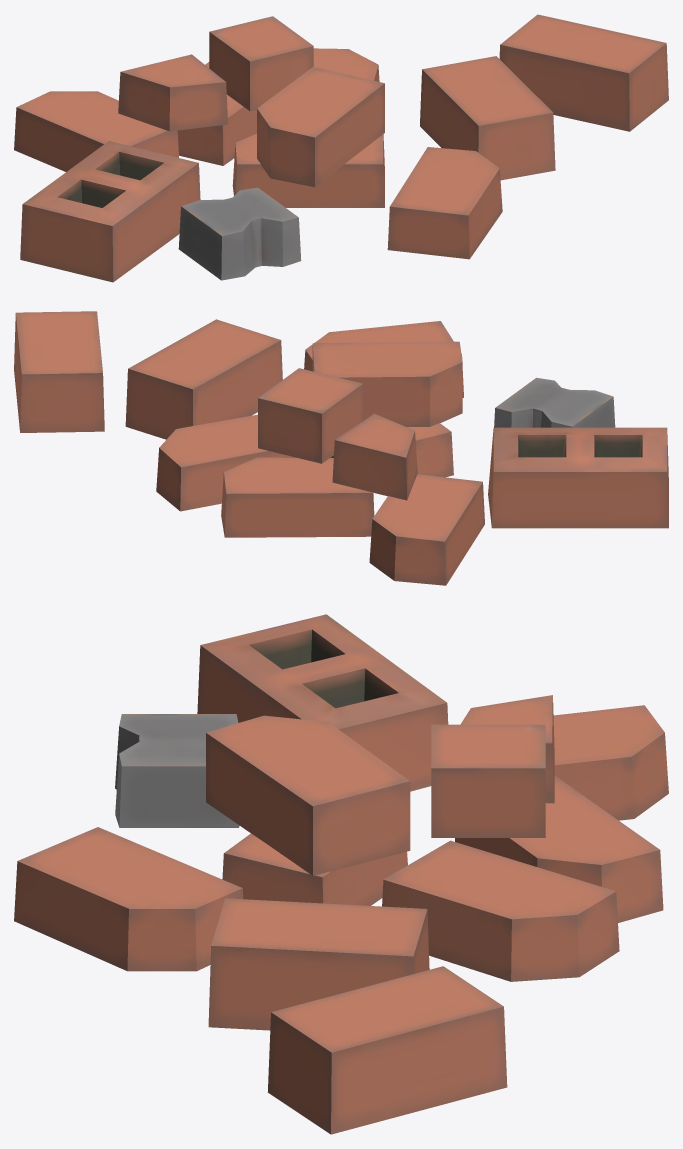
File: Pfb_Garbage.fbx
3 renders of one model, top to bottom at view 1: azimuth 30°, elevation 25°; view 2: azimuth 150°, elevation 25°; view 3: azimuth 270°, elevation 25°, orthographic. The views are drawn at different scales.
Parts seen in each view (by area): view 1: Mat_Gargabe_01; view 2: Mat_Gargabe_01; view 3: Mat_Gargabe_01.
Part boxes in pixels (<box>): Mat_Gargabe_01: <box>14,14,668,282</box>; Mat_Gargabe_01: <box>14,311,668,585</box>; Mat_Gargabe_01: <box>14,614,668,1134</box>.
Bounding box in the file's own units: 1.95 × 0.3033 × 1.21.
1 material, 1 textured.
